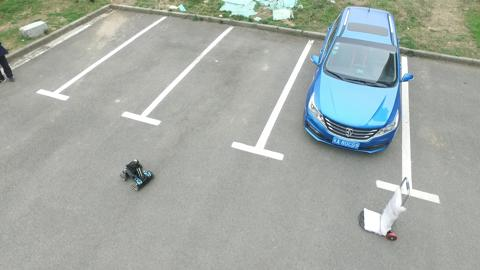car: (284, 1, 423, 168)
chariot: (105, 149, 167, 200)
